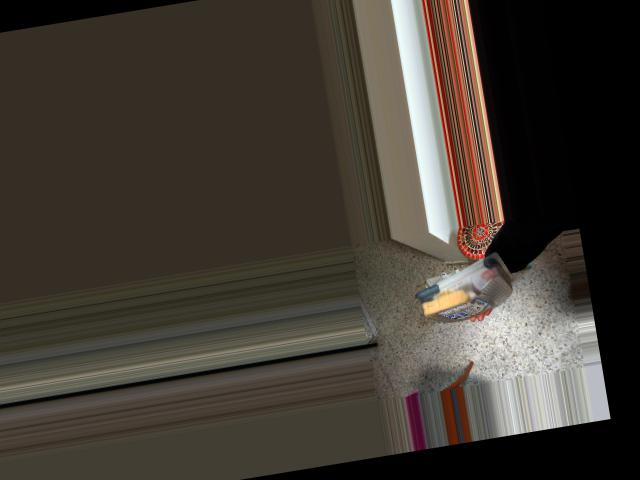cheese: (406, 243, 516, 328)
